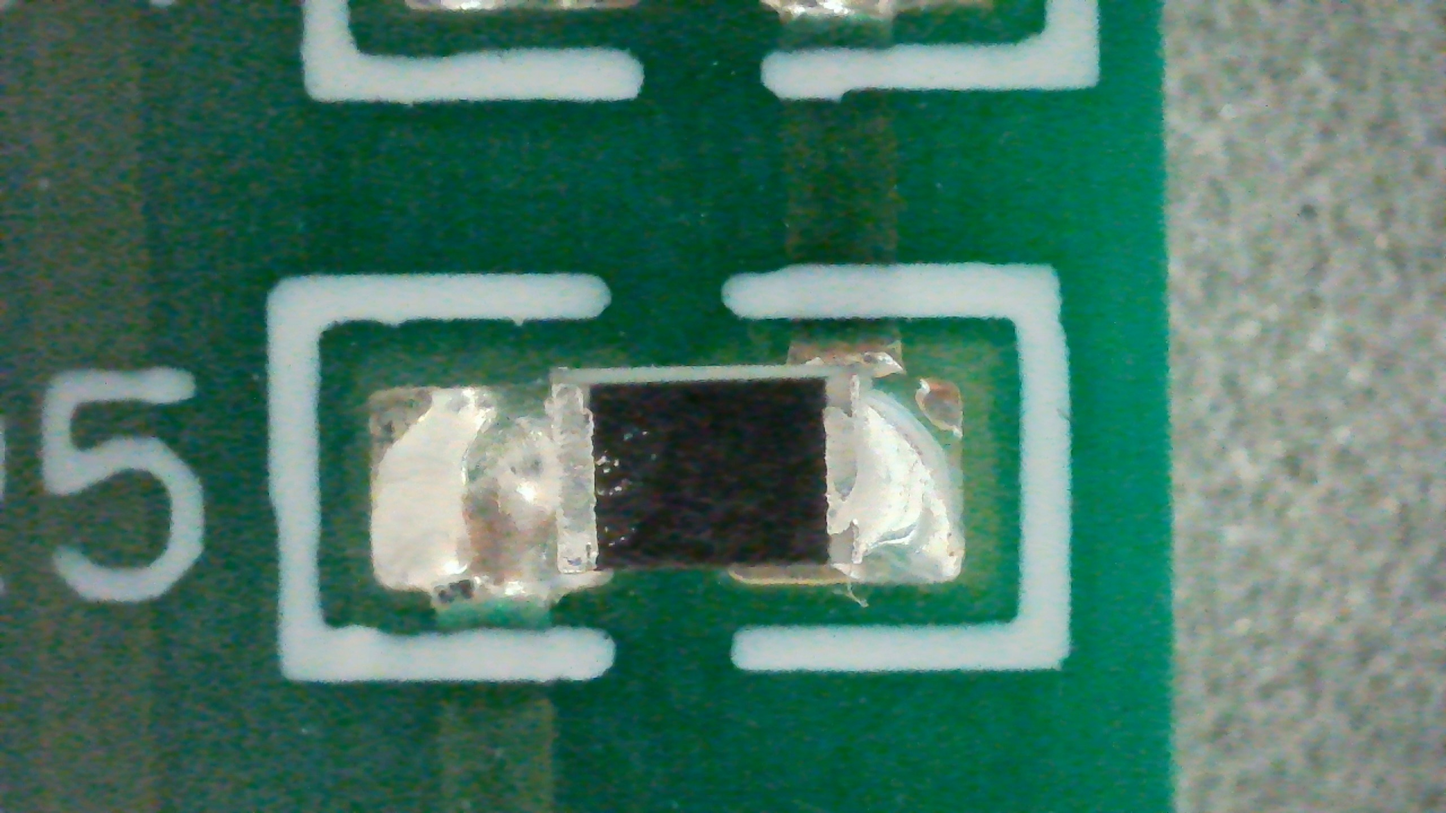OK: (368, 339, 964, 612)
